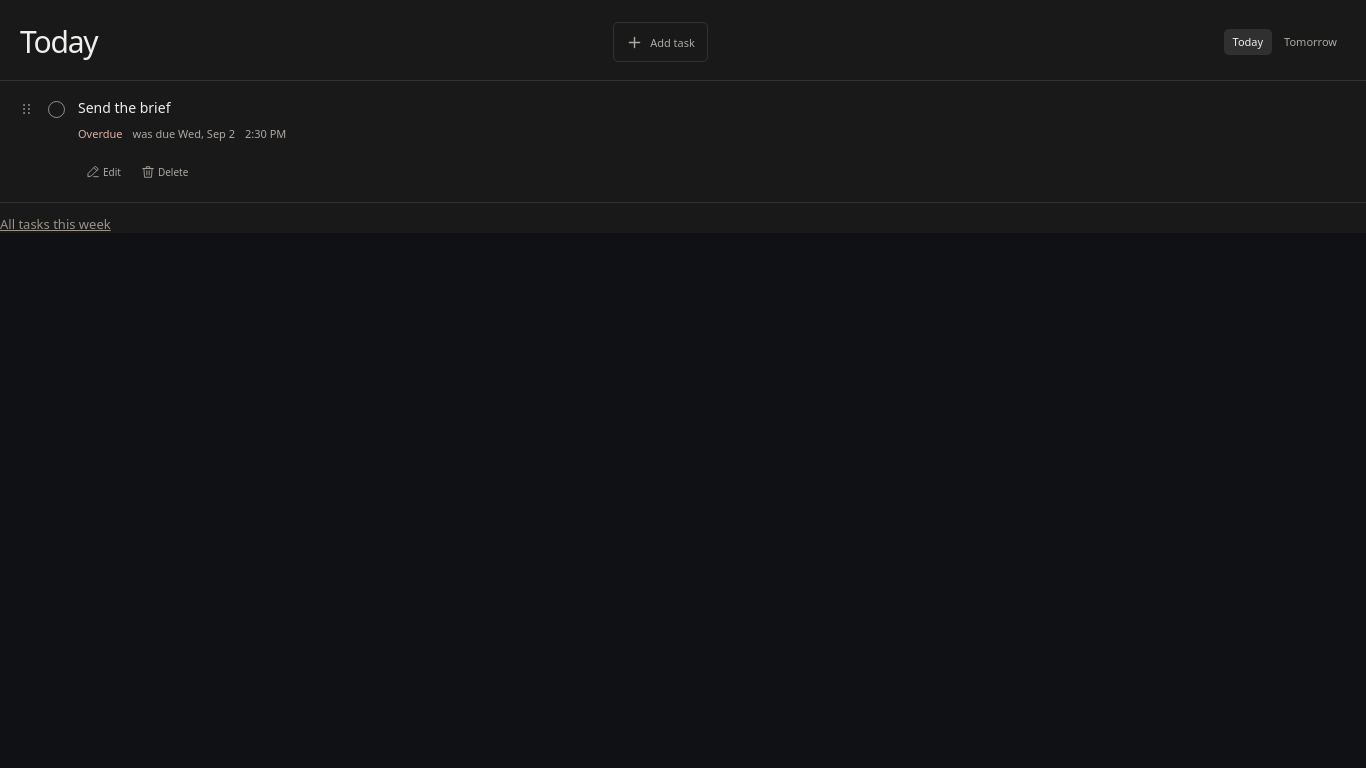
Test: TodayPanel › keeps deletion Undo across day switches and supports completing Tomorrow tasks
Click the button "Tomorrow" at (1311, 42), box [1275, 29, 1346, 55]
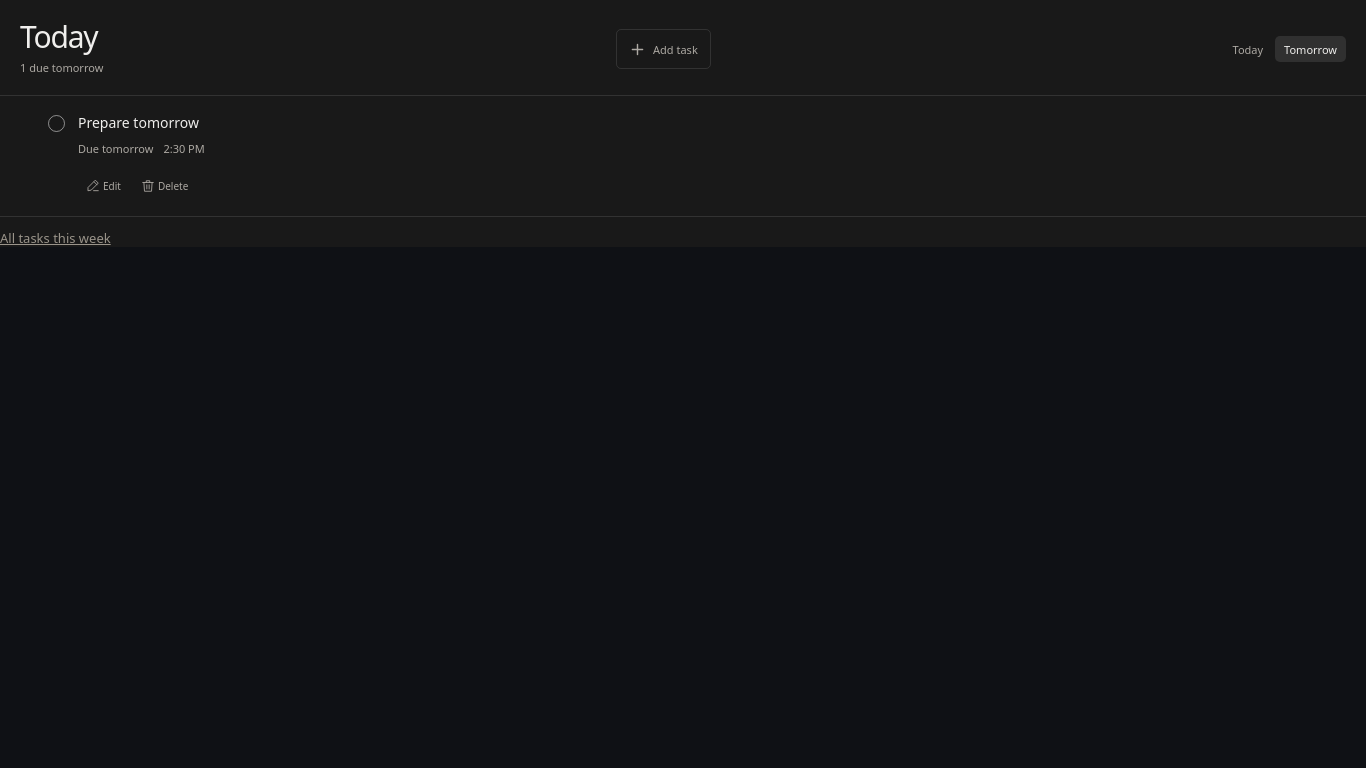
Click the button with aria-label "Delete Prepare tomorrow" at (165, 186), box [133, 170, 196, 202]
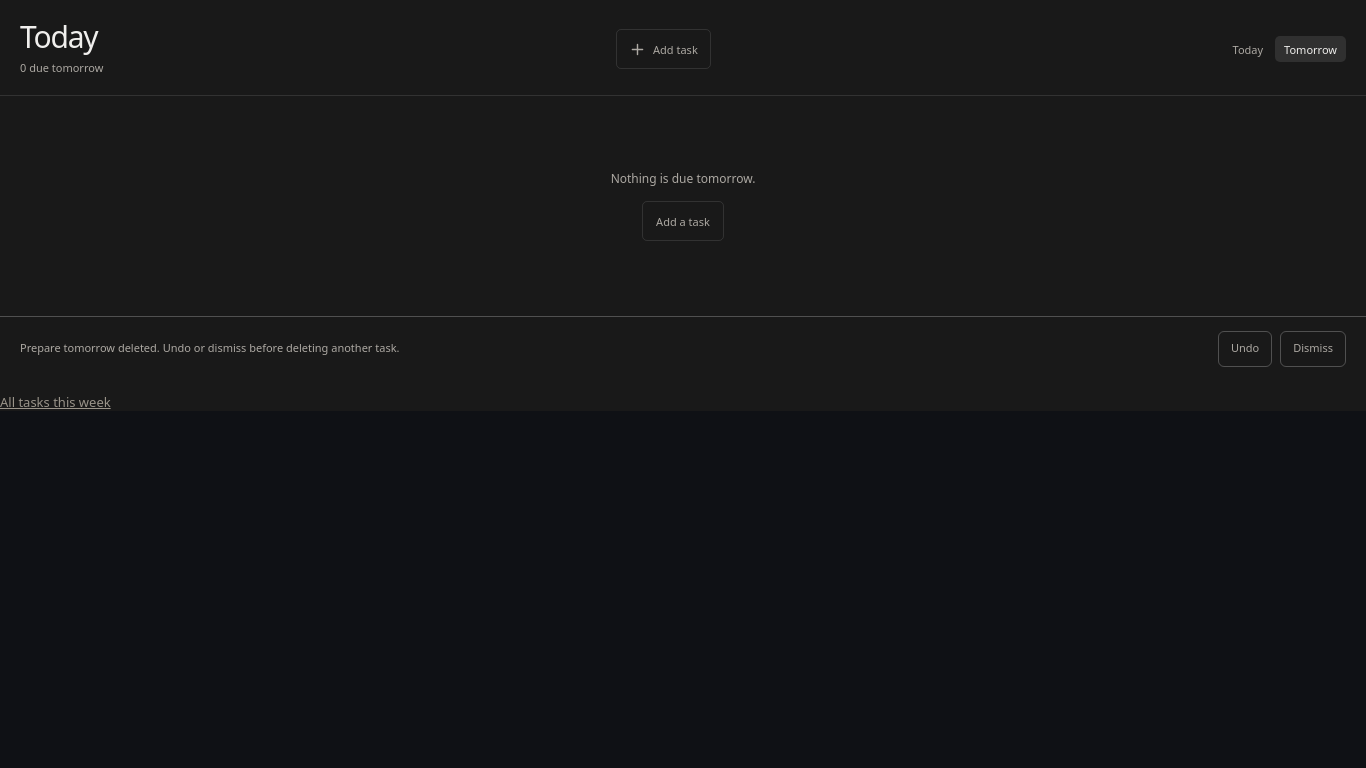
Now the button "Undo" is shown, box [1218, 330, 1272, 366]
Click the button "Today" at (1248, 49), box [1224, 36, 1272, 62]
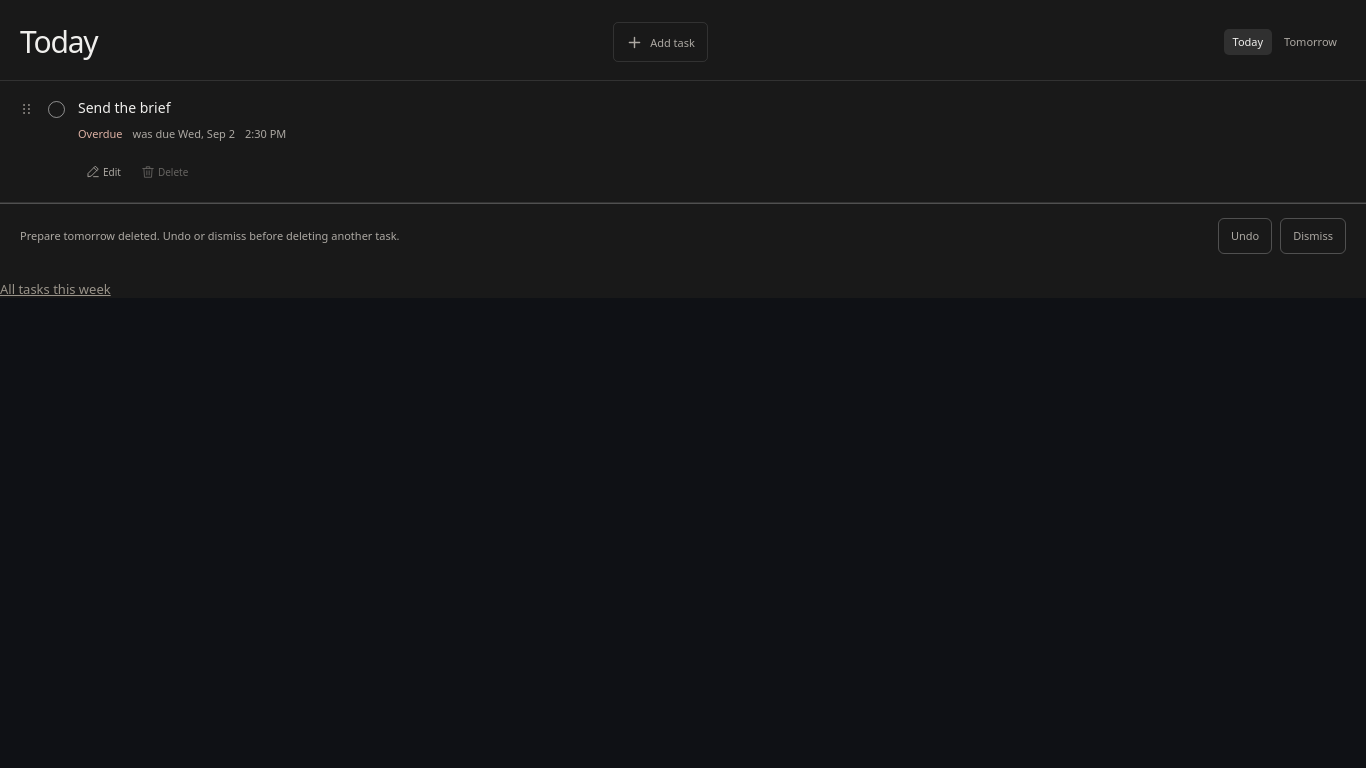
Click the button "Undo" at (1245, 236), box [1218, 218, 1272, 254]
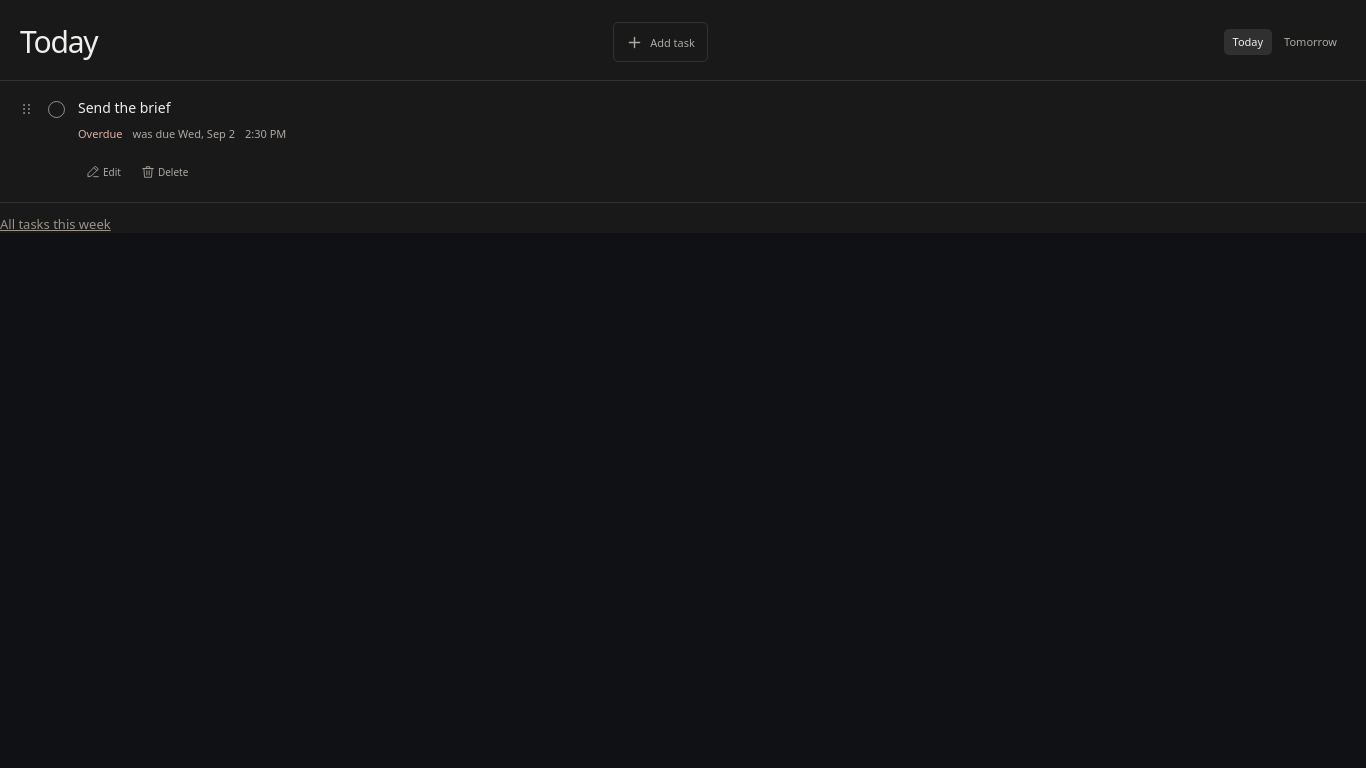
Now the text "Undo" is gone
Click the button "Tomorrow" at (1311, 42), box [1275, 29, 1346, 55]
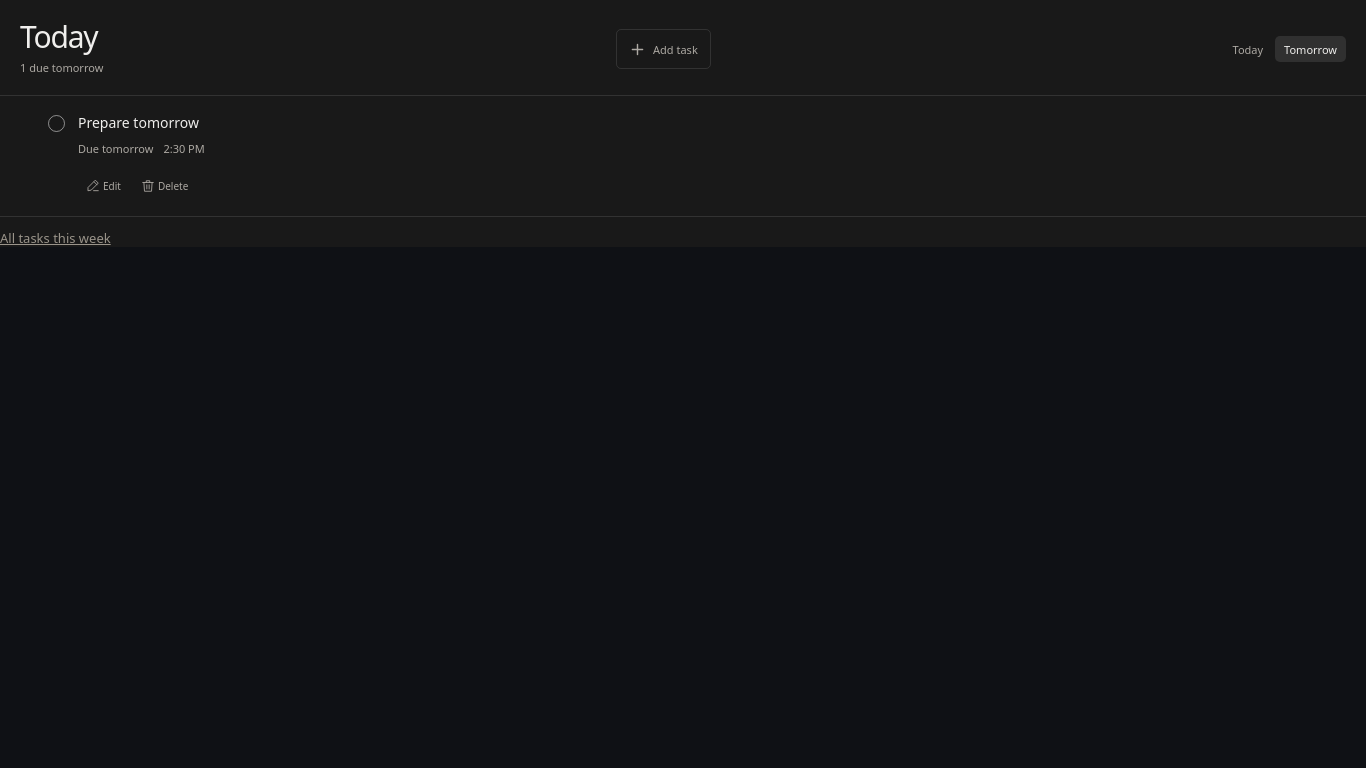
Click the checkbox named "Mark Prepare tomorrow complete" at (56, 124), box [44, 112, 68, 136]
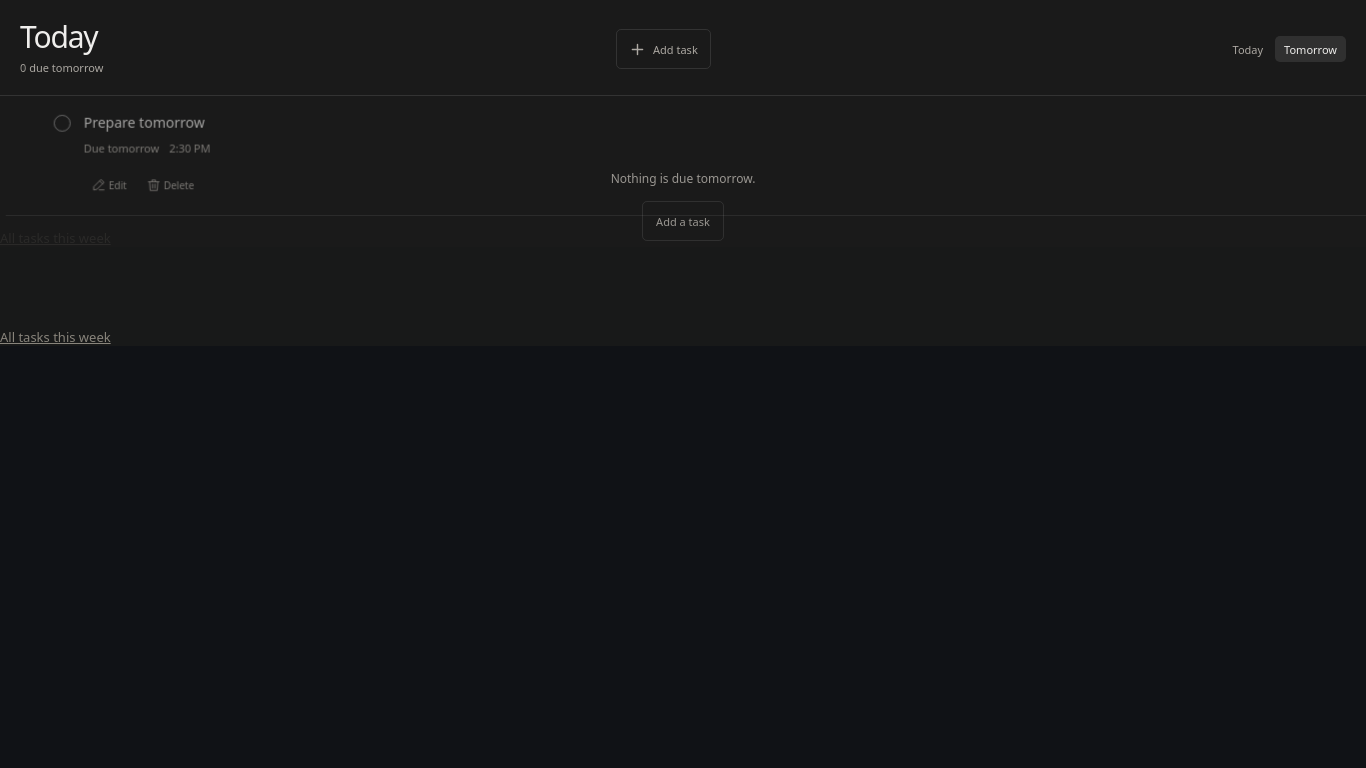
Now the text "Nothing is due tomorrow." is shown, box [611, 170, 755, 187]
